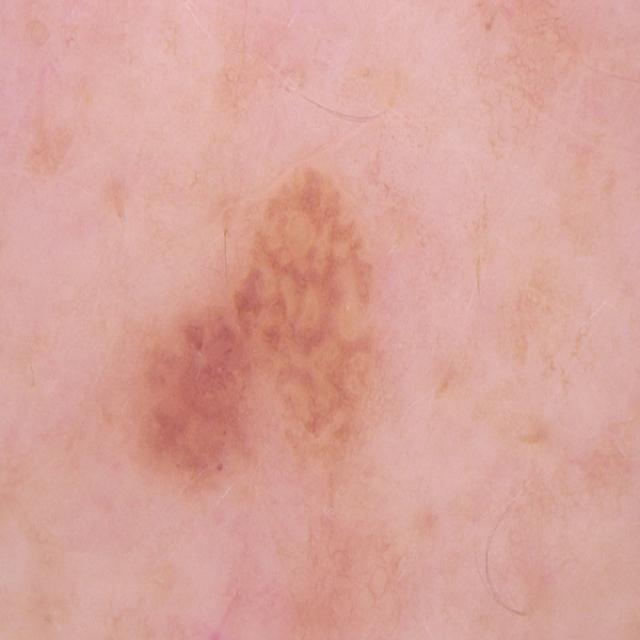Skin-Cancer Pigmented benign keratosis: (63, 52, 589, 638)
